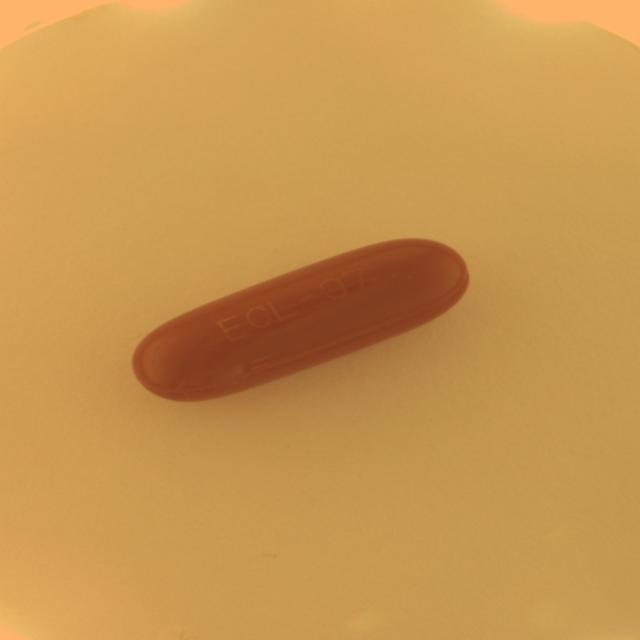Oval: (121, 231, 479, 409)
